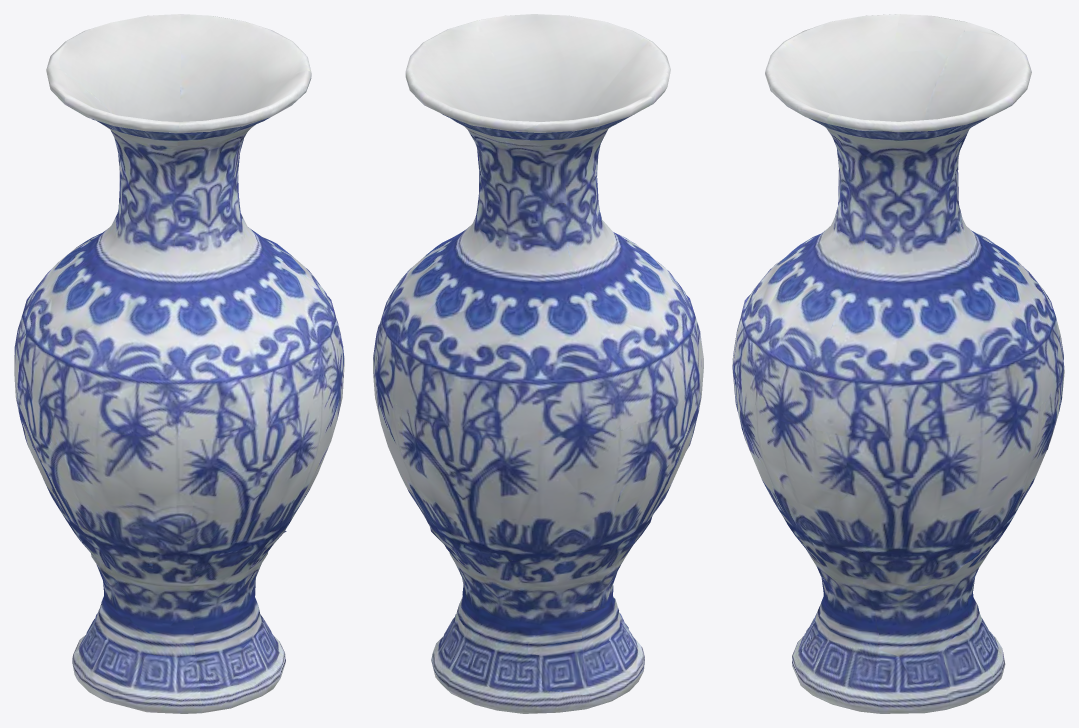
File: pr_vase_ming.glb
3 renders of one model, left to right at view 1: azimuth 30°, elevation 25°; view 2: azimuth 150°, elevation 25°; view 3: azimuth 270°, elevation 25°, orthographic.
Visible parts, largest first — view 1: mesh_node; view 2: mesh_node; view 3: mesh_node.
Part boxes in pixels (left/top/right/bottom): mesh_node: left=14, top=14, right=344, bottom=713; mesh_node: left=373, top=14, right=703, bottom=713; mesh_node: left=732, top=14, right=1064, bottom=713.
Bounding box in the file's own units: 0.9473 × 1.9 × 0.9476.
Materials: 1 (1 with a texture image).
